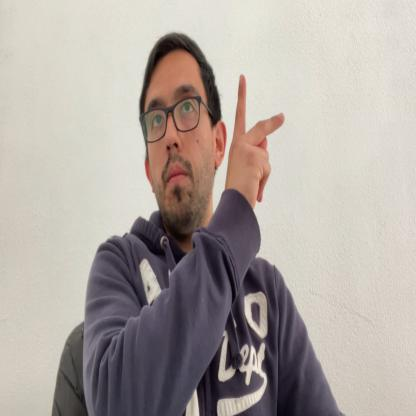P: (225, 72, 285, 214)
